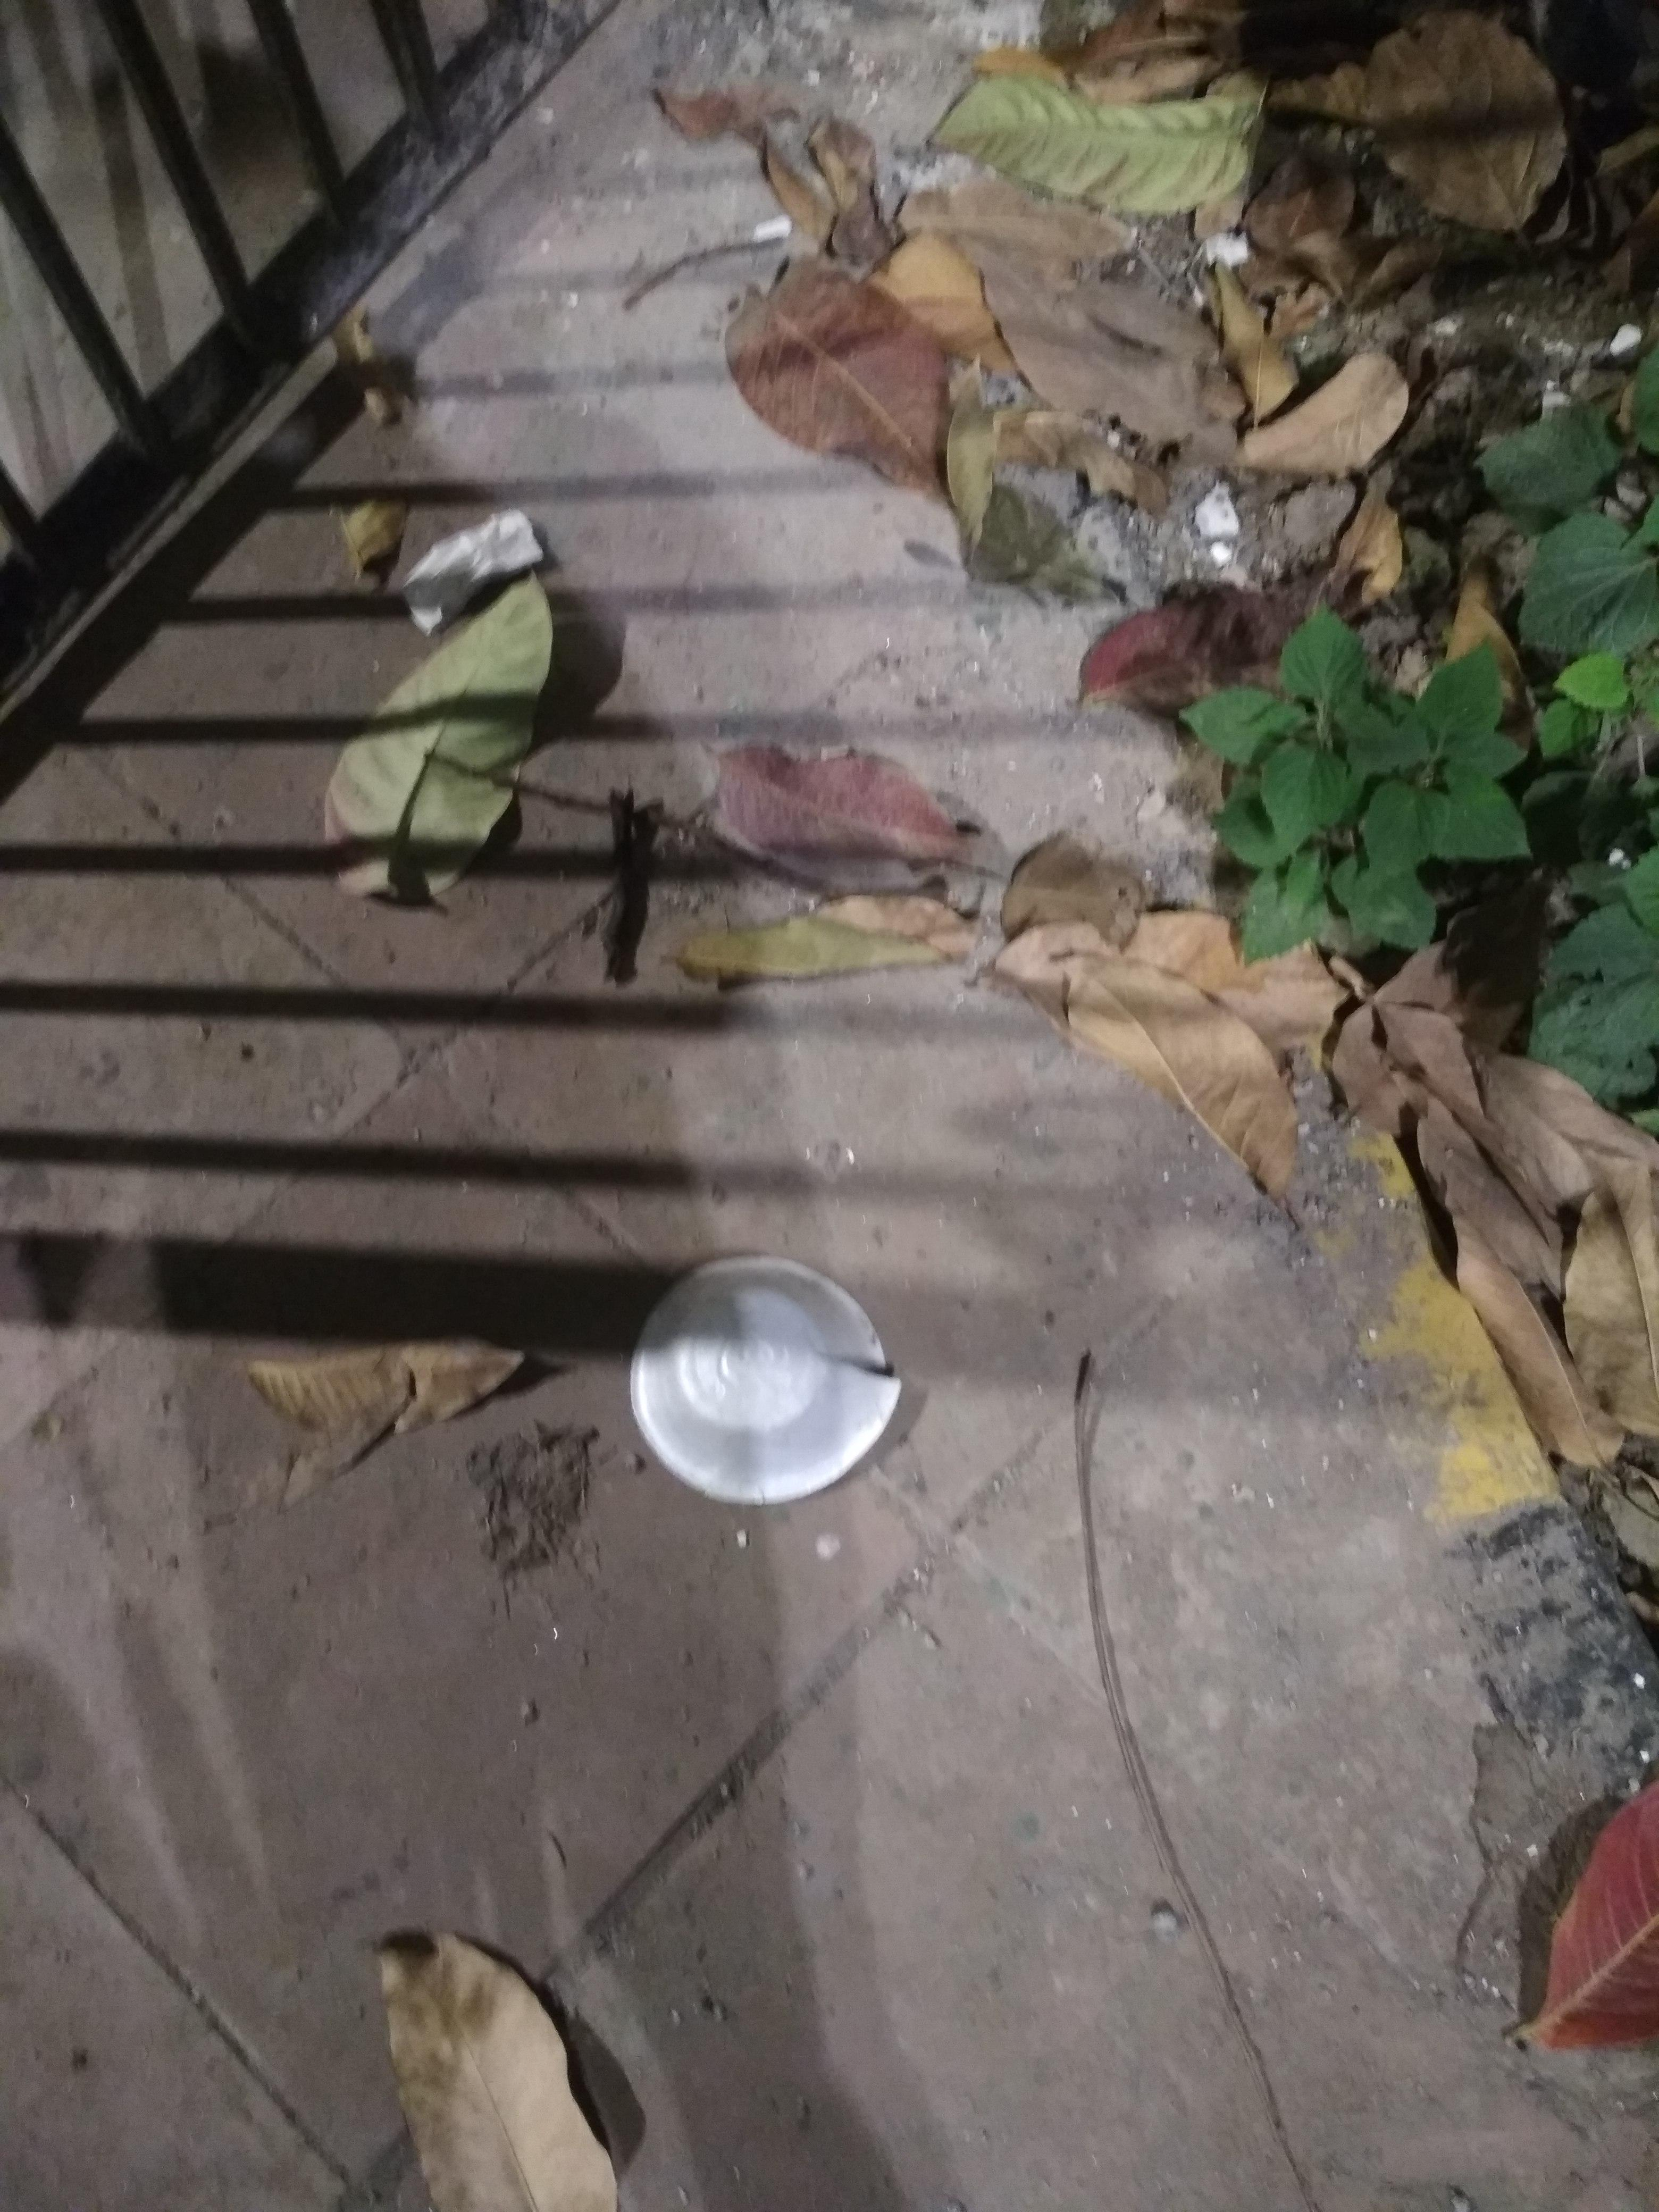trash: (352, 501, 951, 1522)
